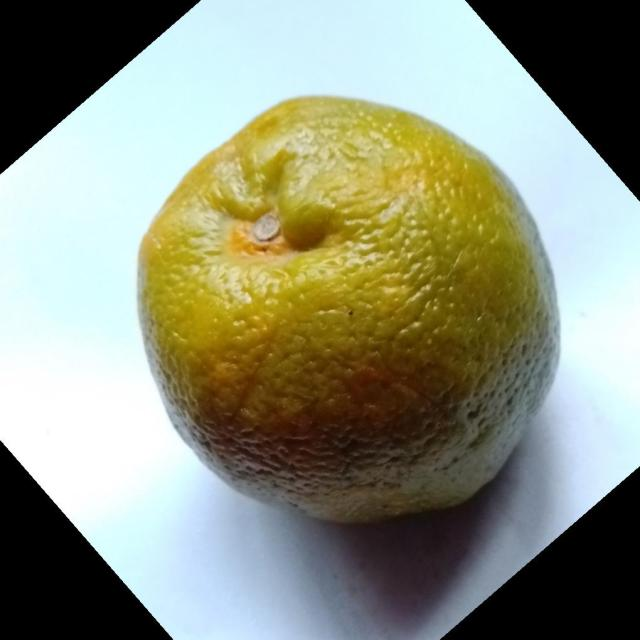fresh orange: (134, 93, 562, 525)
